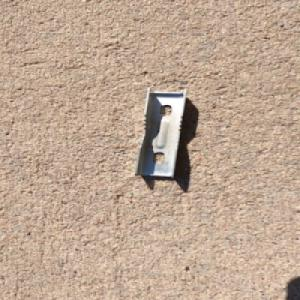ClampPart: (132, 87, 190, 179)
